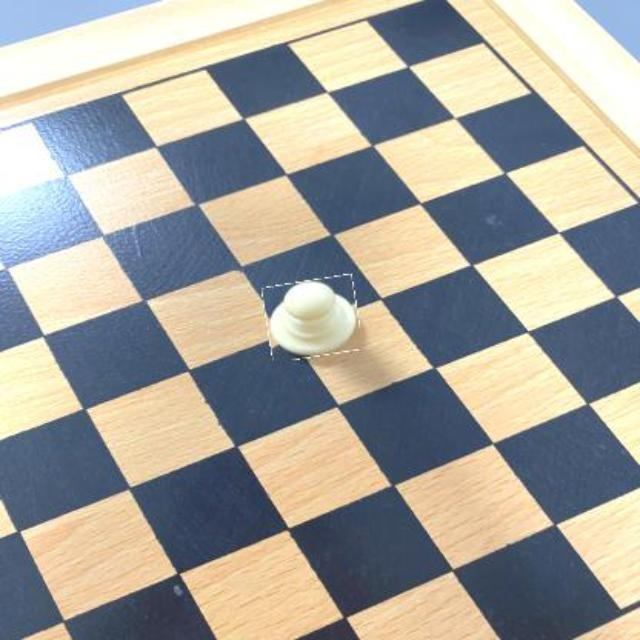white-pawn: (264, 278, 359, 358)
